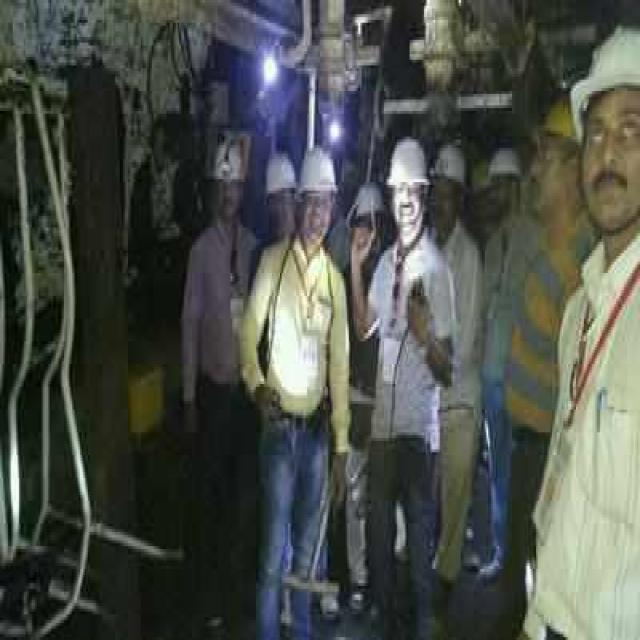person: (548, 15, 640, 640), (250, 155, 344, 634), (363, 119, 446, 640), (522, 101, 580, 595), (429, 135, 478, 585), (479, 146, 518, 584), (189, 140, 251, 400), (257, 148, 301, 242)
safety_helmet: (561, 16, 640, 105), (384, 130, 429, 190), (534, 84, 582, 140), (300, 137, 341, 198), (202, 127, 246, 176), (261, 141, 299, 196), (485, 132, 523, 186), (437, 134, 469, 186), (352, 173, 384, 220)
